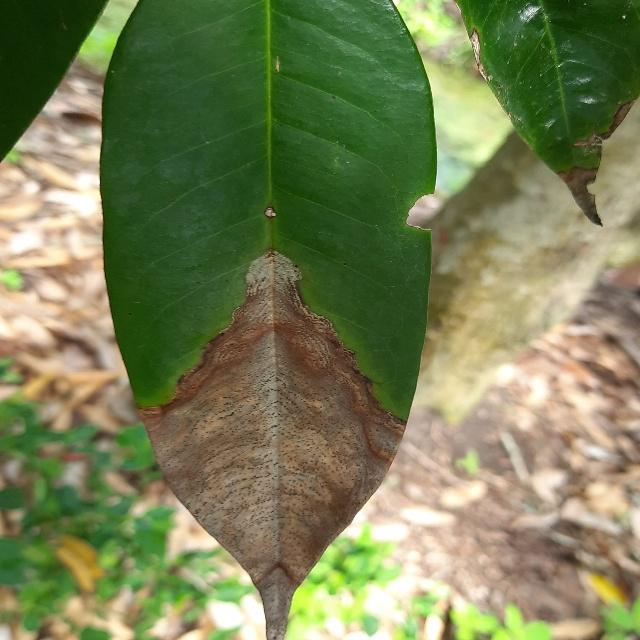Leaf Blight: (91, 0, 445, 640)
